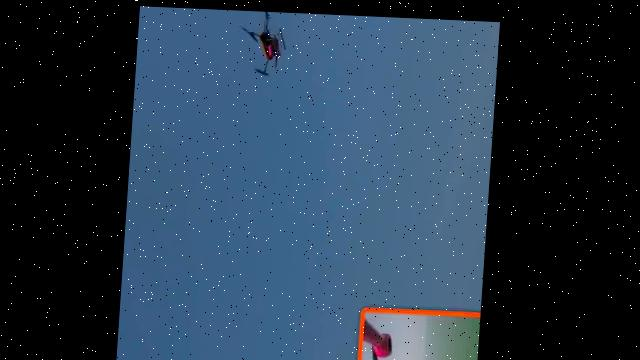drone: (234, 8, 295, 81)
